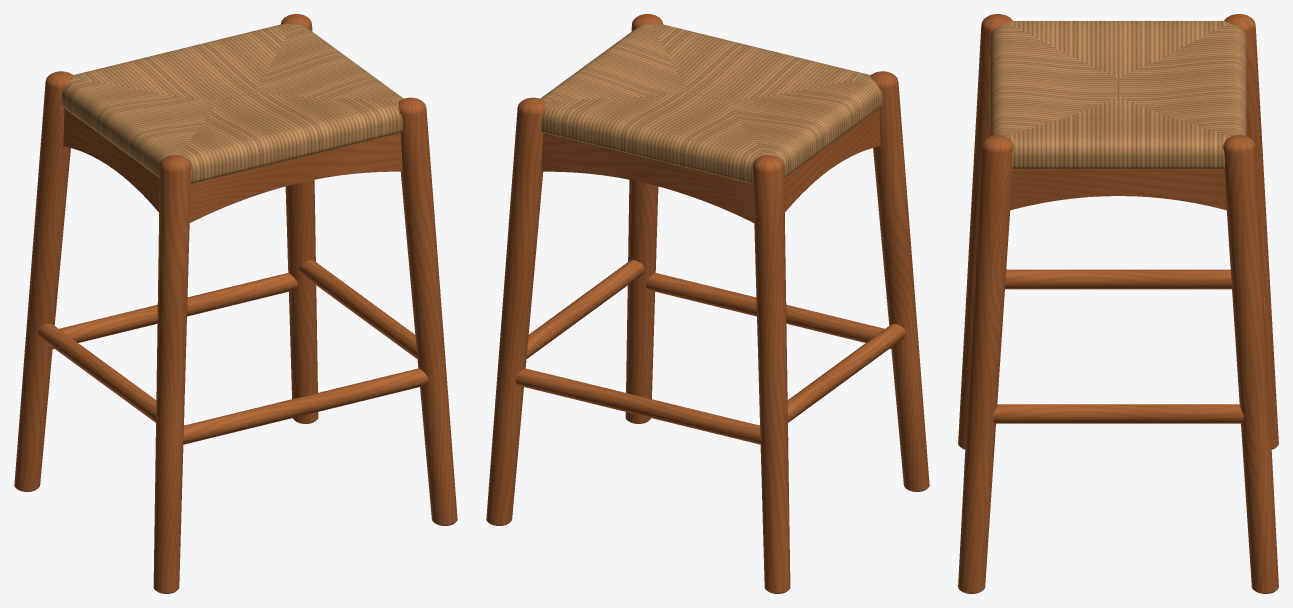
File: BarStool.fbx
3 renders of one model, left to right at view 1: azimuth 30°, elevation 25°; view 2: azimuth 150°, elevation 25°; view 3: azimuth 270°, elevation 25°, orthographic. The views are drawn at different scales.
Visible parts, largest first — view 1: BarStool; view 2: BarStool; view 3: BarStool.
Boxes of the visible parts, x1,y1,x2,y2 form: BarStool: (14, 14, 457, 593); BarStool: (486, 14, 929, 593); BarStool: (958, 14, 1278, 593).
Bounding box in the file's own units: 0.4857 × 0.645 × 0.4257.
2 materials, 2 textured.
